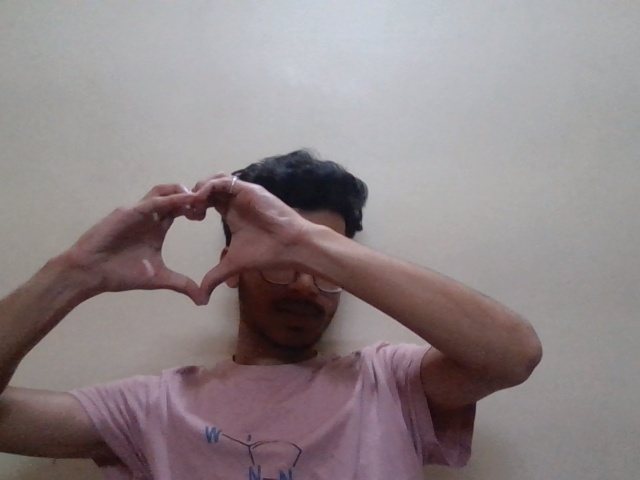silent-voice: (100, 162, 279, 321)
